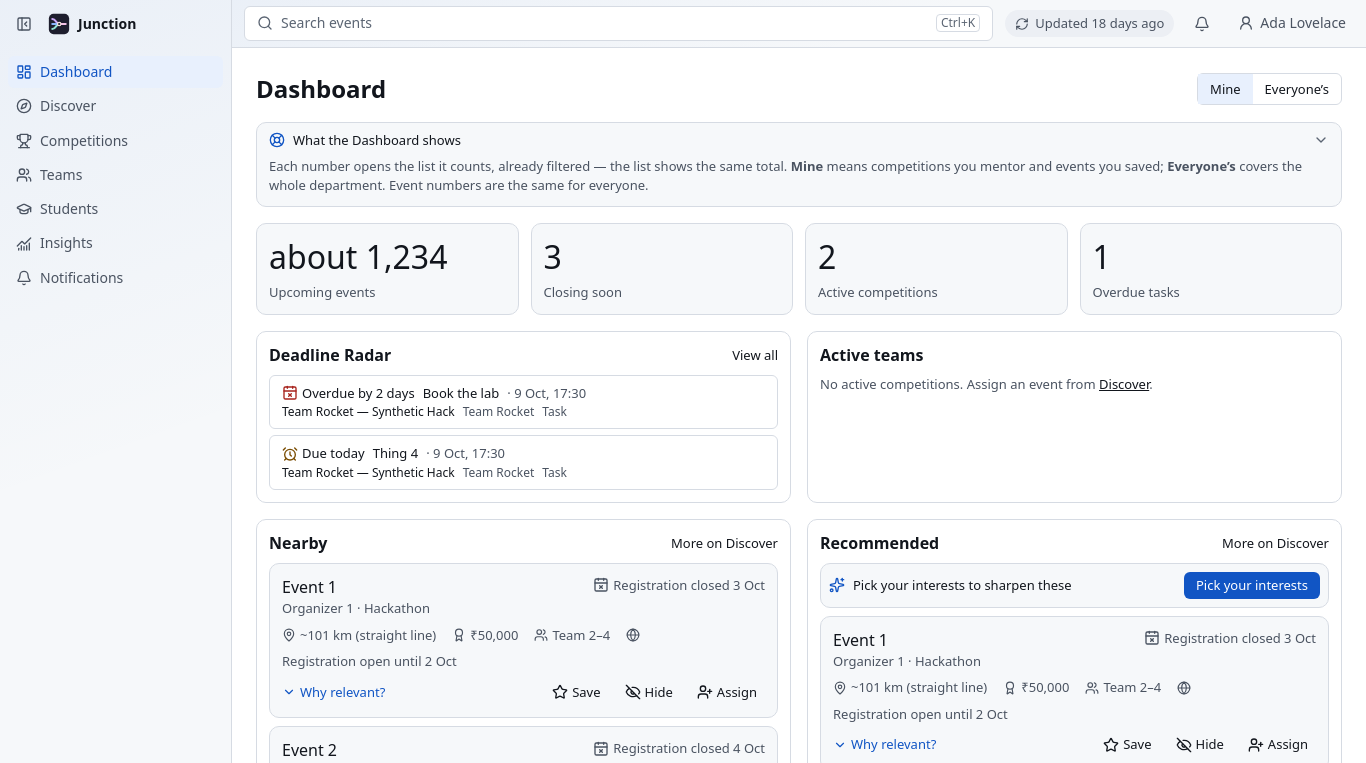
the KPI tiles › Upcoming events opens All events with the Dates chip
The image size is (1366, 763).
Expected: the navigation bar named "Main" is shown, [0,0,231,302]
Click the text with test id "kpi-UPCOMING_EVENTS" at x=358, y=257, box [269,235,447,278]
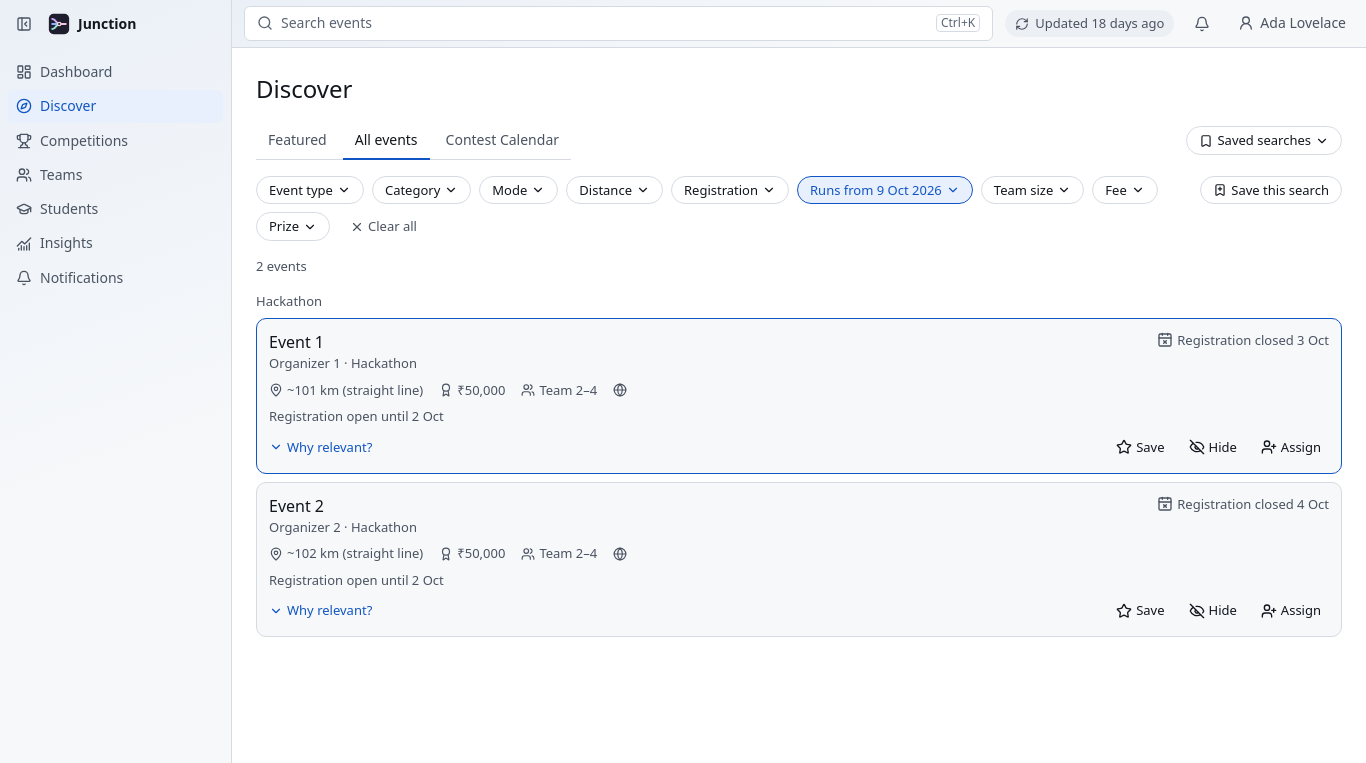
Expected: the button with aria-label "Dates filter: " is shown, [797,176,973,204]
